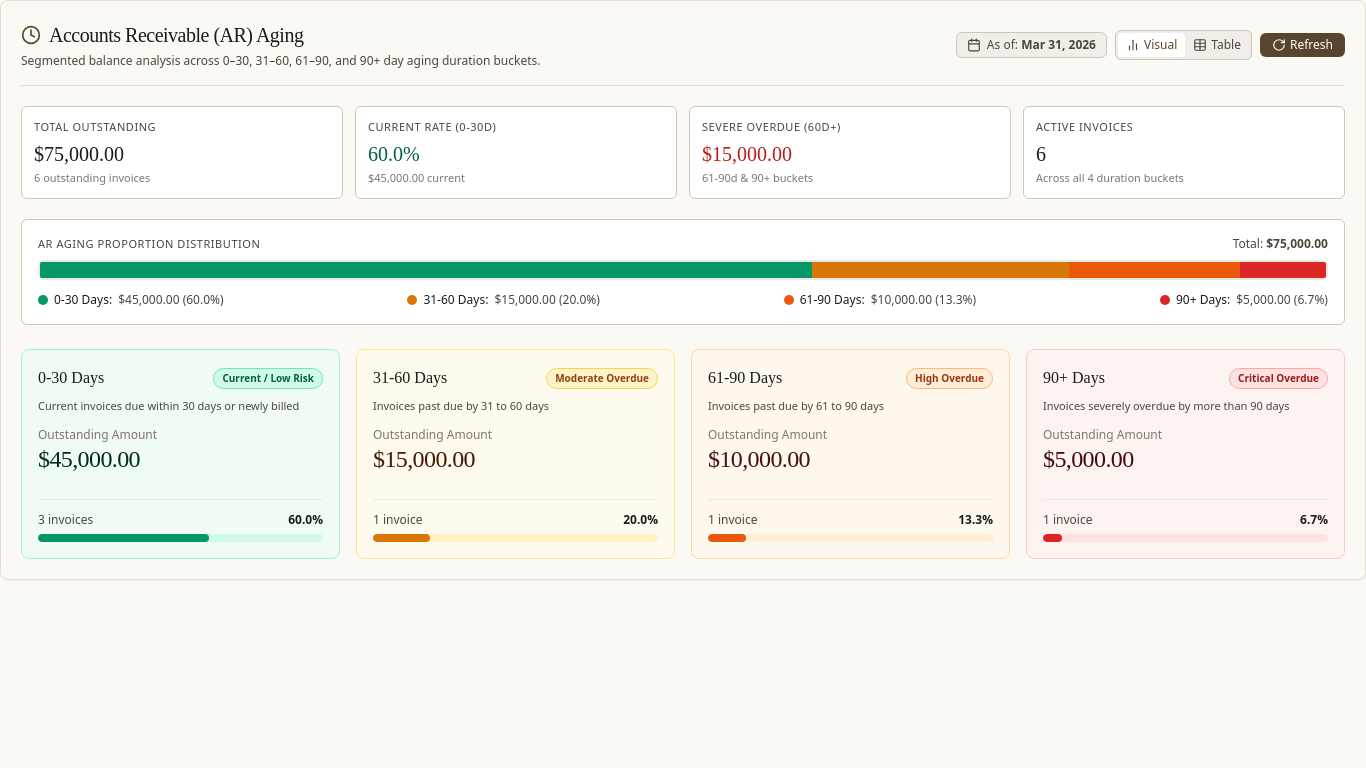
Test: ARAgingChart Component [FR-4] › Component Rendering & Behavior [FR-4] › allows toggling between visual chart view and table view
The image size is (1366, 768).
Click the button named "Table view" at (1217, 45), box [1185,33,1249,57]
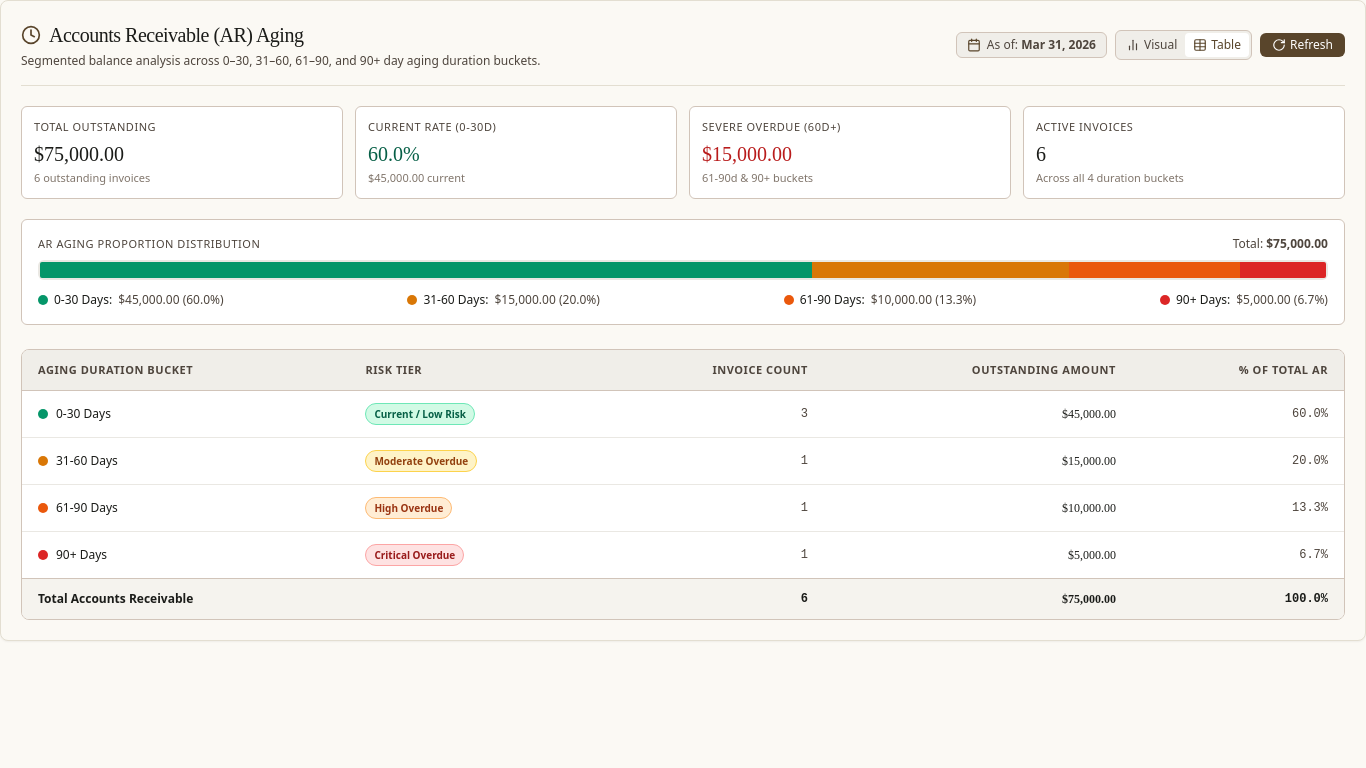
Check: the element with test id "ar-aging-table-view" is shown, box [21,349,1345,620]
Check: the column heading "Aging Duration Bucket" is shown, box [22,350,349,390]
Click the button named "Visual view" at (1152, 45), box [1118,33,1185,57]
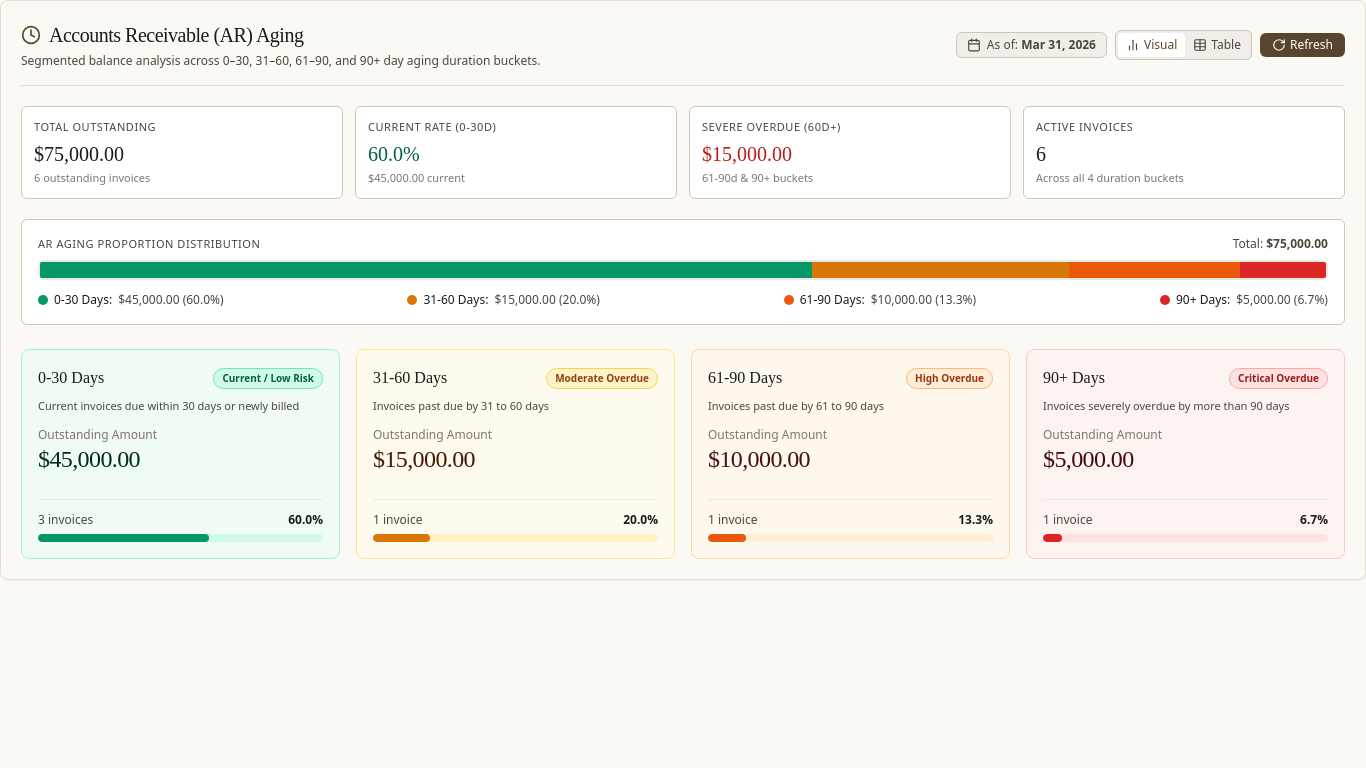
Check: the element with test id "ar-aging-bucket-grid" is shown, box [21,349,1345,558]
